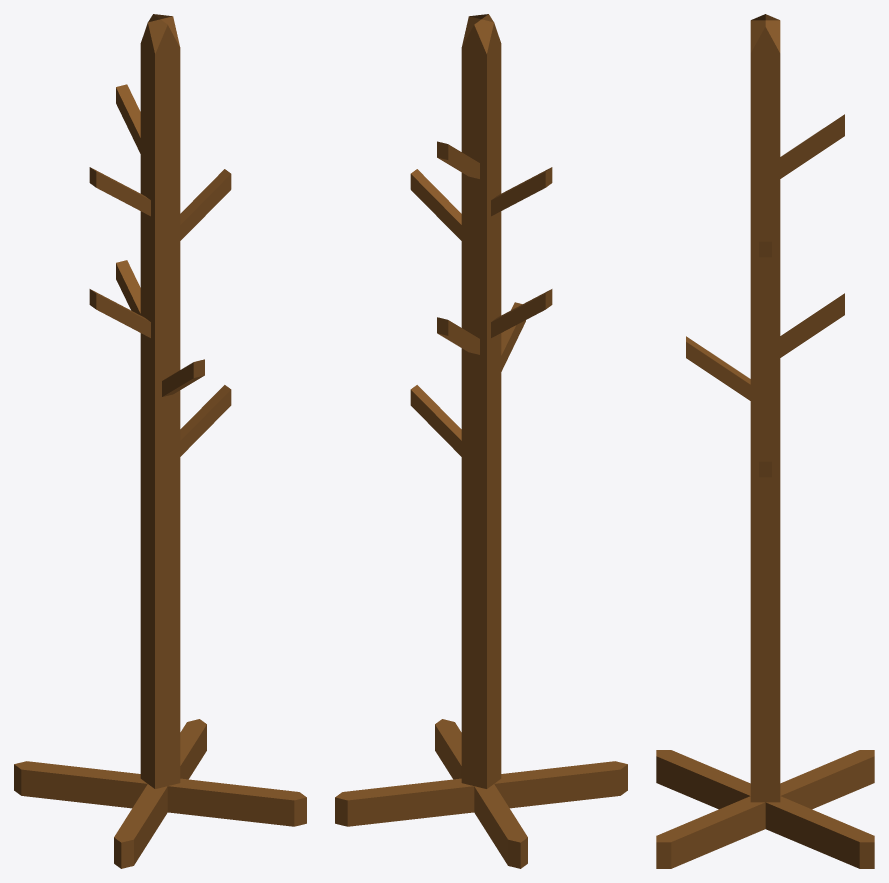
Rendered from furniture_coathanger.fbx.
3 renders of one model, left to right at view 1: azimuth 30°, elevation 25°; view 2: azimuth 150°, elevation 25°; view 3: azimuth 270°, elevation 25°, orthographic.
Parts seen in each view (by area): view 1: furniture_coathanger; view 2: furniture_coathanger; view 3: furniture_coathanger.
Boxes of the visible parts, bbox=[...] form: furniture_coathanger: bbox=[14, 14, 306, 868]; furniture_coathanger: bbox=[335, 14, 627, 868]; furniture_coathanger: bbox=[656, 14, 874, 868].
Size of the model in its own units: 40.43 by 164 by 40.43.
